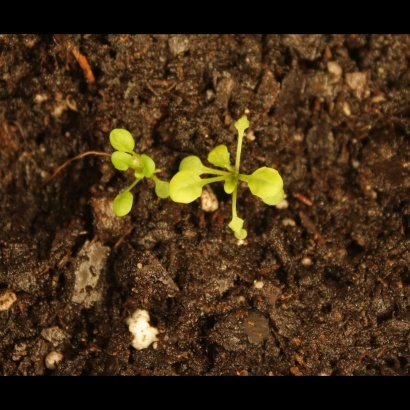leaf: (246, 166, 292, 206), (169, 170, 208, 208), (223, 215, 255, 245), (178, 153, 209, 182), (108, 126, 139, 154), (228, 106, 253, 140), (111, 190, 136, 223), (206, 144, 232, 170), (109, 151, 132, 174), (136, 156, 159, 179), (154, 179, 177, 202)
